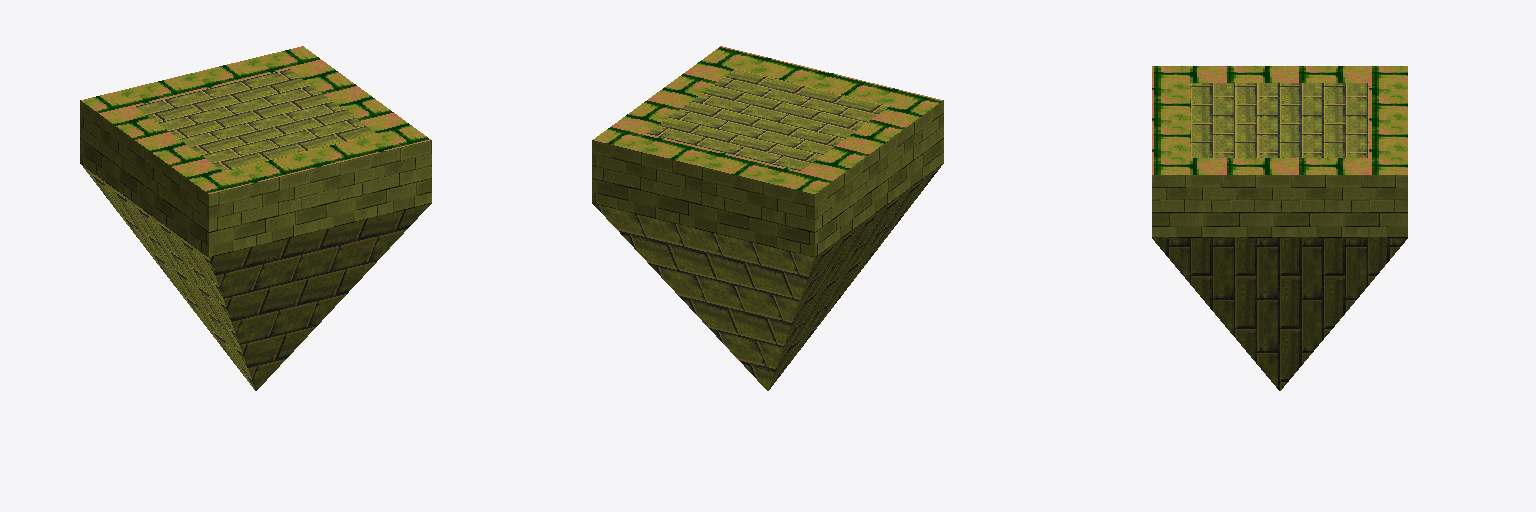
3 views of the same model, side by side, from view 1: azimuth 30°, elevation 25°; view 2: azimuth 150°, elevation 25°; view 3: azimuth 270°, elevation 25° (orthographic).
Parts seen in each view (by area): view 1: Mesh1 Component_5_1 Model; view 2: Mesh1 Component_5_1 Model; view 3: Mesh1 Component_5_1 Model.
Part boxes in pixels (x1,y1,x2,y2): Mesh1 Component_5_1 Model: (80,46,431,390); Mesh1 Component_5_1 Model: (592,46,943,390); Mesh1 Component_5_1 Model: (1152,66,1407,390).
Size of the model in its own units: 510 by 594 by 510.
Materials: 3 (3 with a texture image).